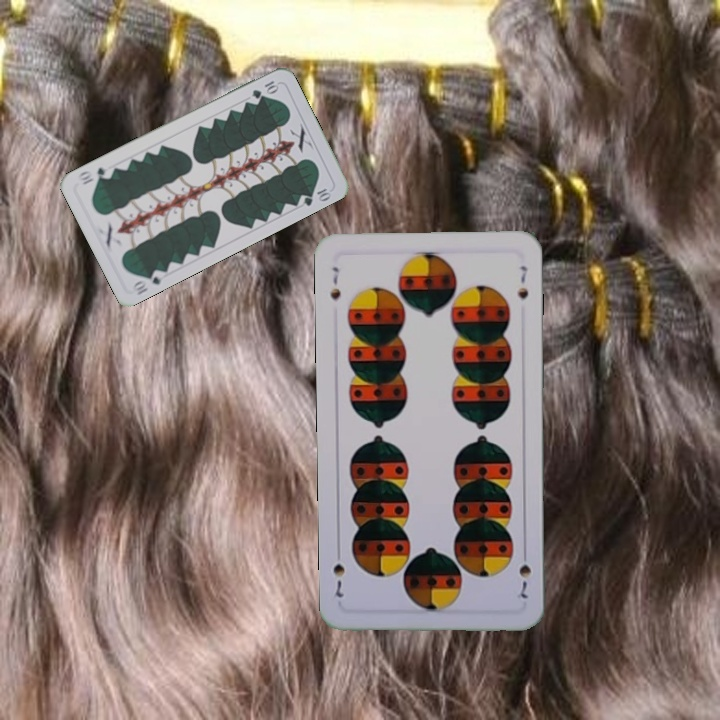G10: (129, 265, 164, 298), (248, 77, 281, 101)
S7: (515, 545, 534, 601), (325, 263, 344, 302)
